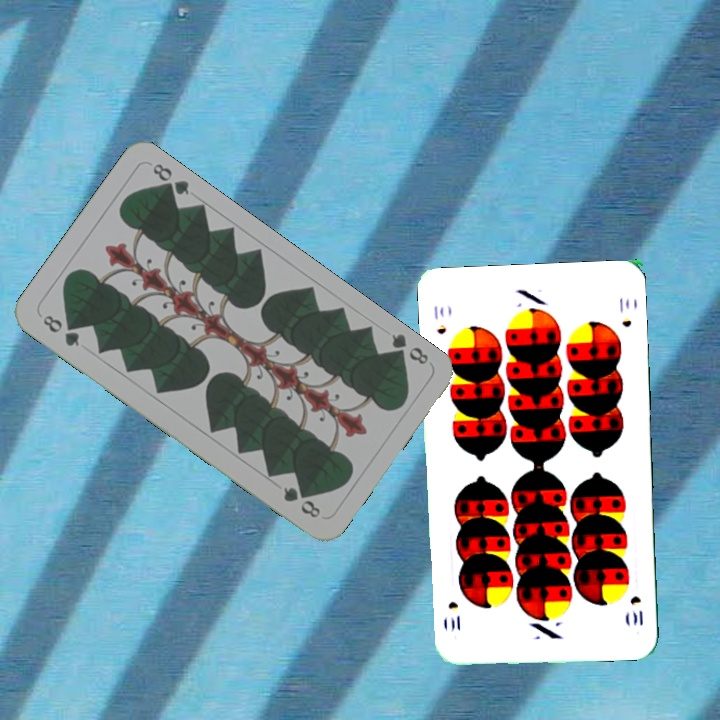G8: (385, 329, 431, 368), (38, 310, 82, 349)
S10: (626, 591, 645, 628), (430, 302, 449, 337)
